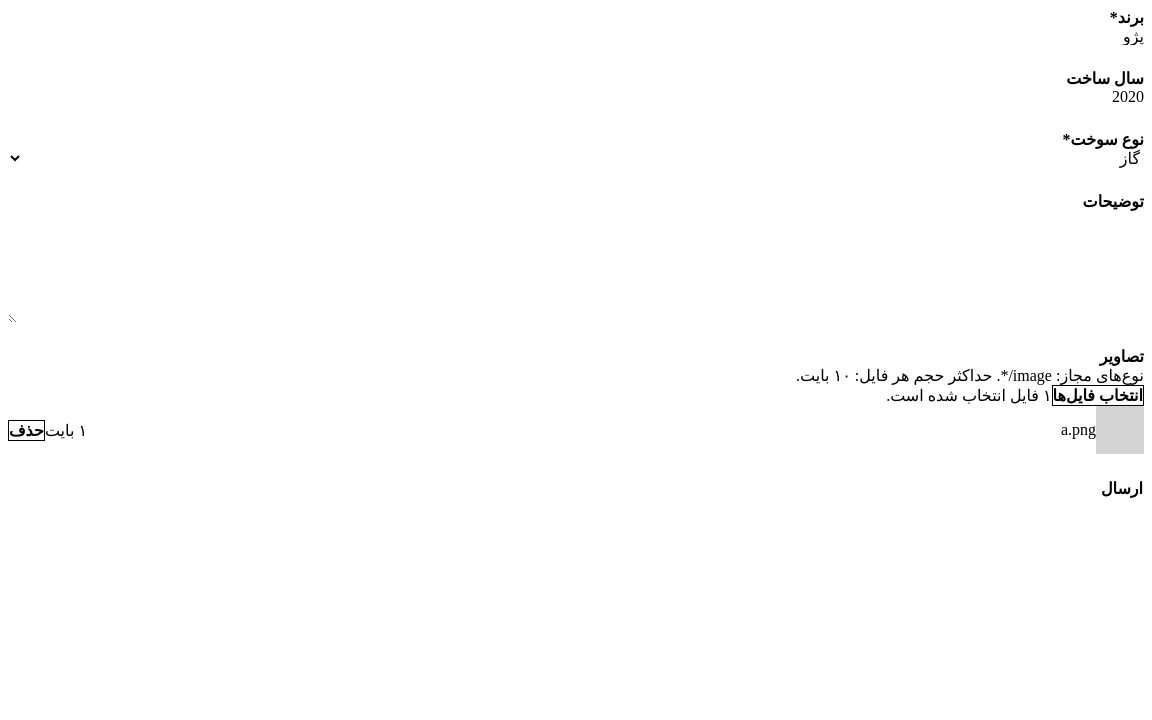
after a successful submit › "Edit and resubmit" brings the form back with the same values and files
This screenshot has width=1152, height=720.
Earlier steps of the test are not shown.
Click the button "ارسال".
click(1122, 488)  # box [1100,478,1144,499]
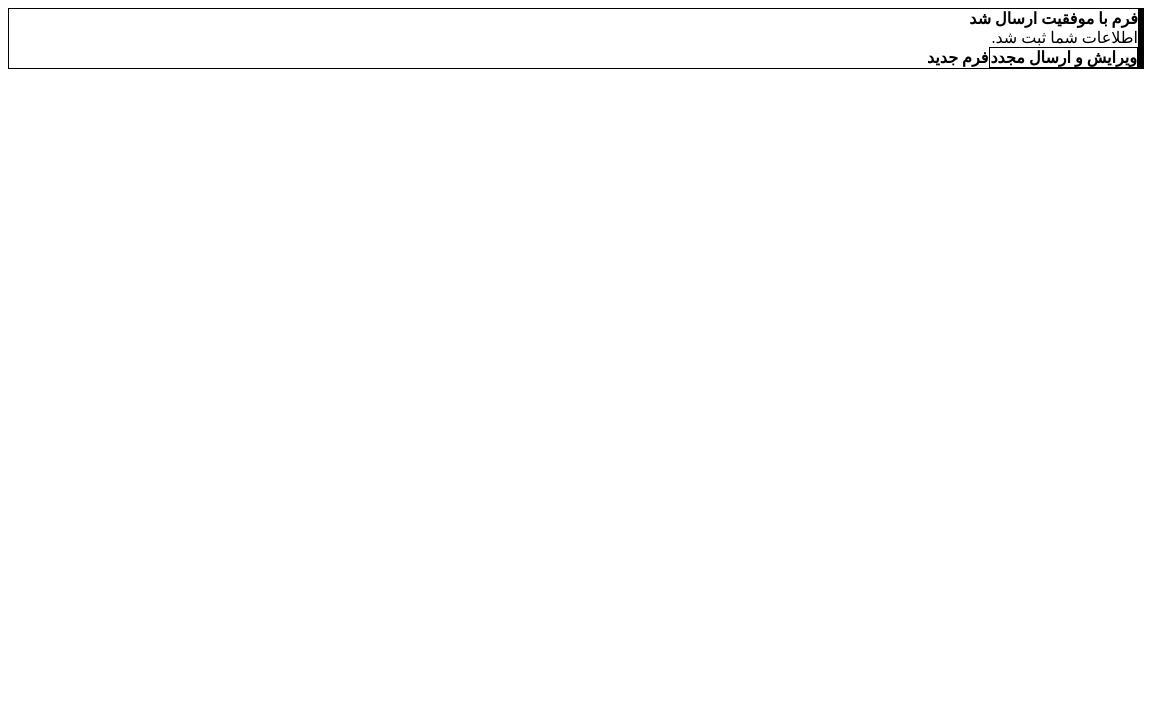
Click the button "ویرایش و ارسال مجدد".
click(1064, 58)  # box [990,47,1138,68]
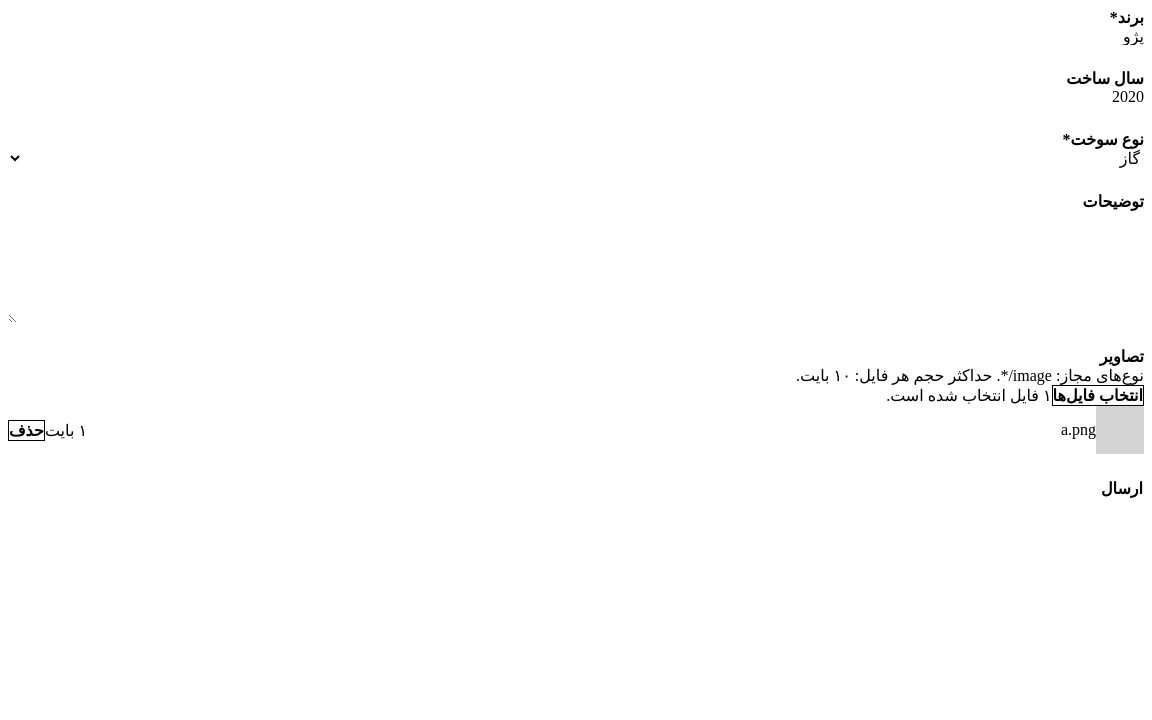
Result: the field labelled "برند*" holds "پژو" at [8,27,1144,45]
Result: the field labelled "سال ساخت" holds "2020" at [8,88,1144,106]
Result: the dropdown labelled "نوع سوخت*" shows "گاز" at [8,149,1144,168]
